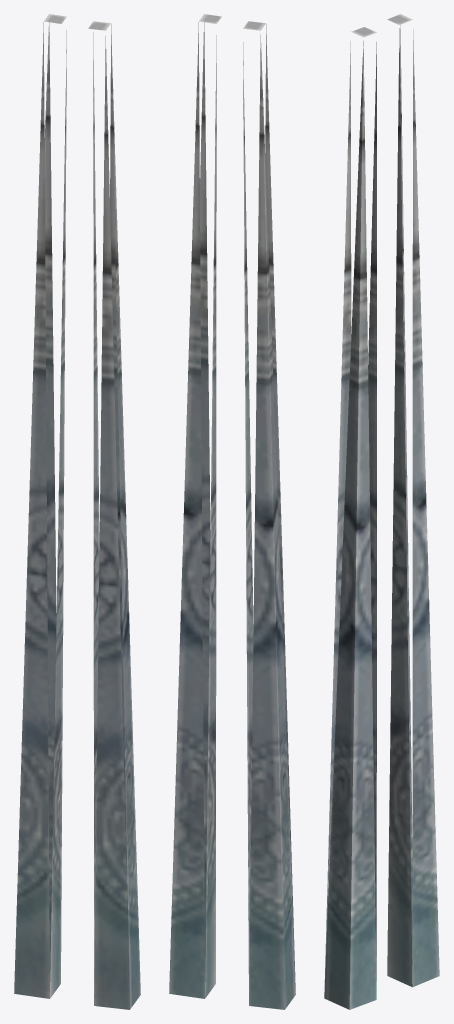
File: Whale_koreaWeapon_lance.obj
The picture shows the model from 3 angles, left to right: view 1: azimuth 30°, elevation 25°; view 2: azimuth 210°, elevation 25°; view 3: azimuth 270°, elevation 25°; orthographic projection.
Parts seen in each view (by area): view 1: Whale_koreaWeapon_tri [lance]; view 2: Whale_koreaWeapon_tri [lance]; view 3: Whale_koreaWeapon_tri [lance].
Boxes of the visible parts, bbox=[...] form: Whale_koreaWeapon_tri [lance]: bbox=[14, 14, 140, 1009]; Whale_koreaWeapon_tri [lance]: bbox=[169, 14, 295, 1009]; Whale_koreaWeapon_tri [lance]: bbox=[324, 14, 439, 1009].
Bounding box in the file's own units: 0.2285 × 2.26 × 0.2455.
1 material, 1 textured.
